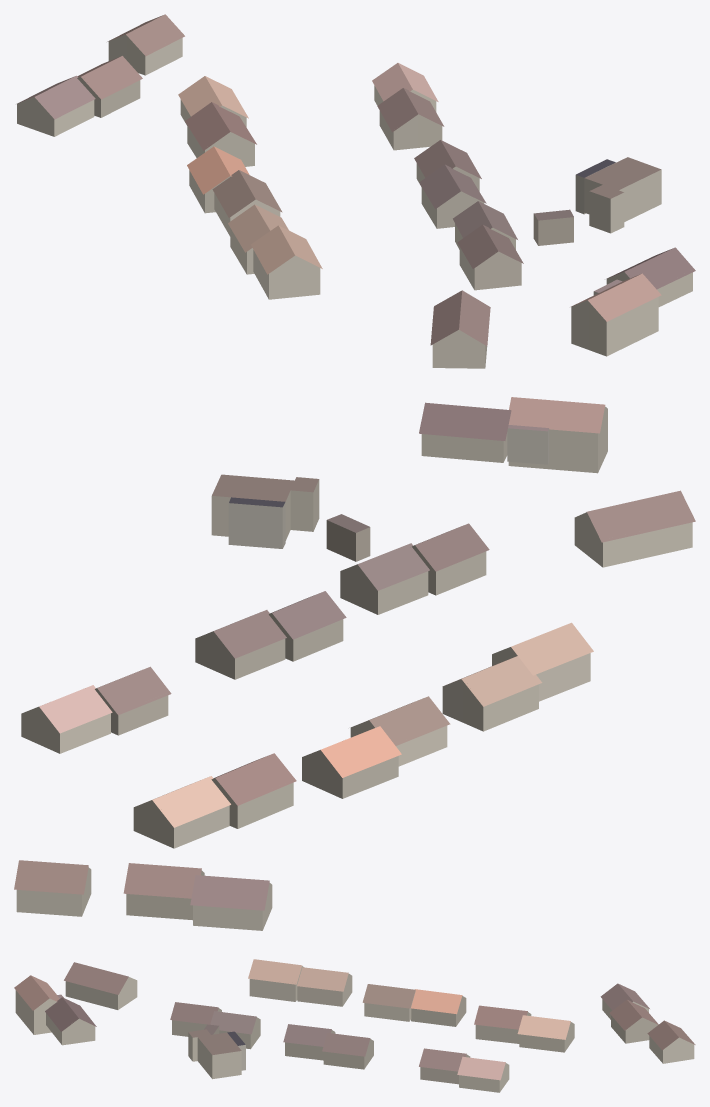
The picture shows the model from 3 angles, top to bottom: view 1: azimuth 30°, elevation 25°; view 2: azimuth 150°, elevation 25°; view 3: azimuth 270°, elevation 25°; orthographic projection. The views are drawn at different scales.
Parts seen in each view (by area): view 1: tuile; view 2: tuile; view 3: tuile.
Boxes of the visible parts, x1,y1,x2,y2 form: tuile: (17,14,695,368); tuile: (14,397,695,930); tuile: (14,959,695,1092).
Bounding box in the file's own units: 70.64 × 20.45 × 167.
